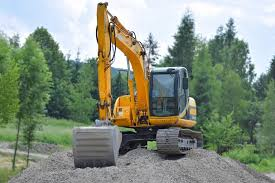excavator: (68, 3, 205, 173)
